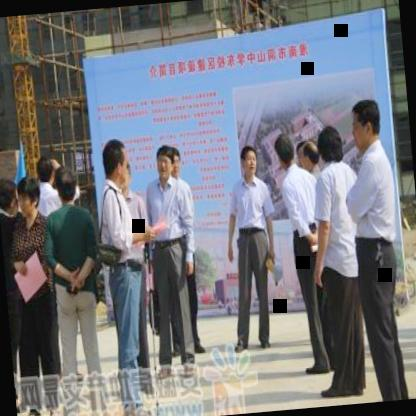head: (346, 94, 385, 152), (100, 135, 134, 194), (314, 123, 346, 174), (50, 165, 80, 209), (16, 176, 43, 223), (271, 132, 299, 173), (0, 174, 20, 223), (298, 137, 320, 181), (238, 143, 260, 182), (33, 153, 56, 190), (156, 141, 174, 179), (170, 146, 185, 182)
